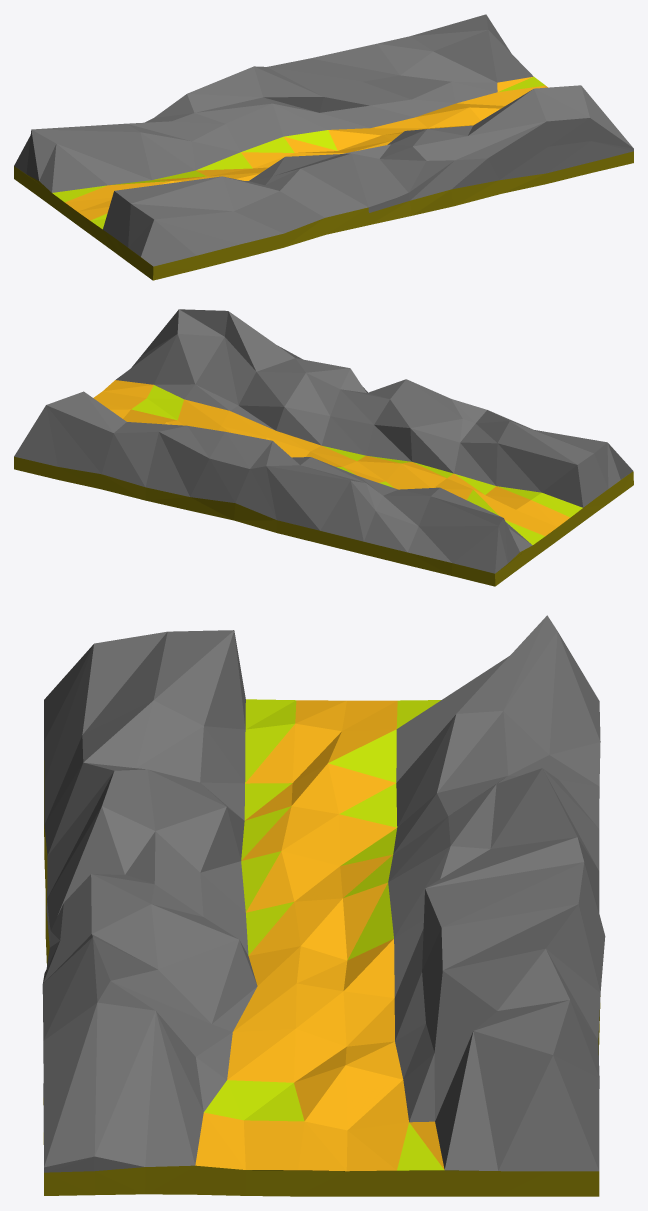
The model's file is PlaneAutumn1.fbx.
3 views of the same model, one above another, from view 1: azimuth 30°, elevation 25°; view 2: azimuth 150°, elevation 25°; view 3: azimuth 270°, elevation 25° (orthographic). The views are drawn at different scales.
Parts seen in each view (by area): view 1: PlaneAutumn1.Cliffs, PlaneAutumn1.Floor, PlaneAutumn1.Road, PlaneAutumn1.RoadEdge; view 2: PlaneAutumn1.Cliffs, PlaneAutumn1.Road, PlaneAutumn1.Floor, PlaneAutumn1.RoadEdge; view 3: PlaneAutumn1.Cliffs, PlaneAutumn1.Road, PlaneAutumn1.RoadEdge, PlaneAutumn1.Floor.
Boxes of the visible parts, <box> form: PlaneAutumn1.Cliffs: <box>14,14,633,266</box>; PlaneAutumn1.Floor: <box>14,151,633,280</box>; PlaneAutumn1.Road: <box>65,76,547,220</box>; PlaneAutumn1.RoadEdge: <box>52,77,545,229</box>; PlaneAutumn1.Cliffs: <box>14,309,632,573</box>; PlaneAutumn1.Road: <box>93,380,570,536</box>; PlaneAutumn1.Floor: <box>14,456,633,586</box>; PlaneAutumn1.RoadEdge: <box>131,385,582,544</box>; PlaneAutumn1.Cliffs: <box>42,615,605,1172</box>; PlaneAutumn1.Road: <box>195,700,444,1171</box>; PlaneAutumn1.RoadEdge: <box>204,699,444,1170</box>; PlaneAutumn1.Floor: <box>43,760,600,1196</box>.
Bounding box in the file's own units: 40031 × 6931 × 20260.
